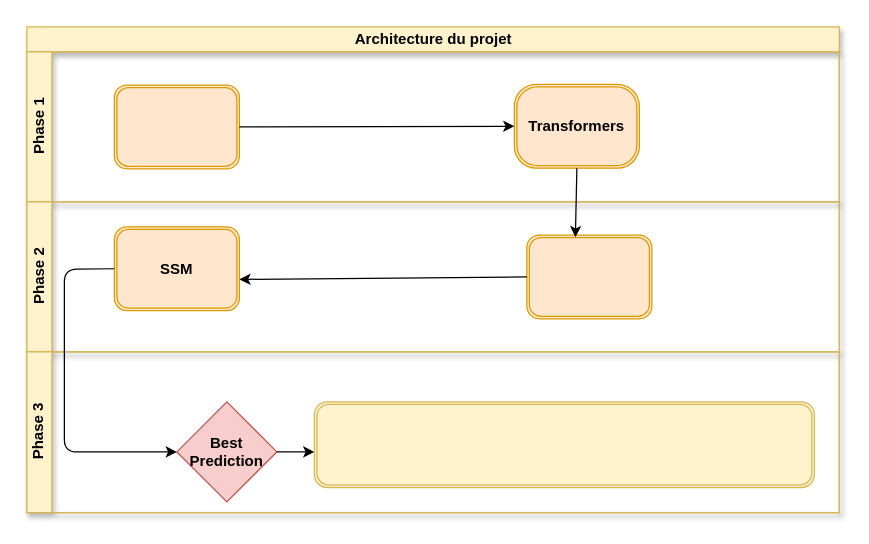
The diagram is 869 pixels wide and 544 high, and some of its shapes have lost their labels. Each missing label, with the centre of its shape:
"CNN" belongs at [176,126].
"LSTM" belongs at [589,276].
"Optimisation de l’affectation des ressources de maintenance" belongs at [563,444].
